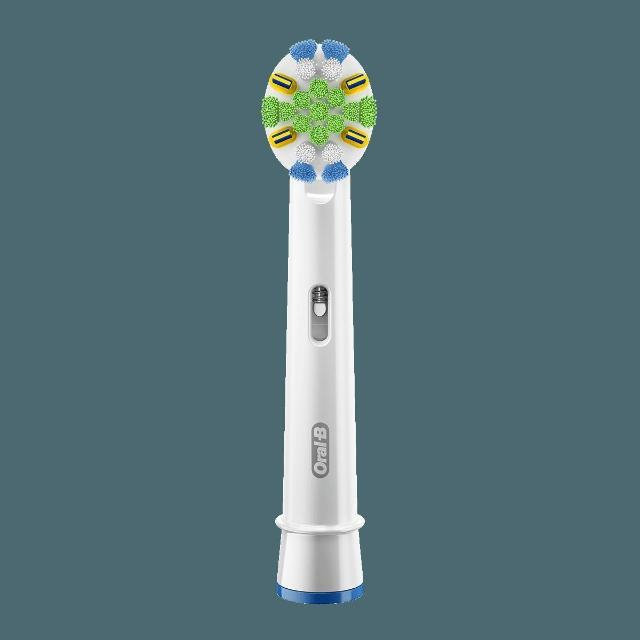toothbrush: (234, 16, 403, 640)
